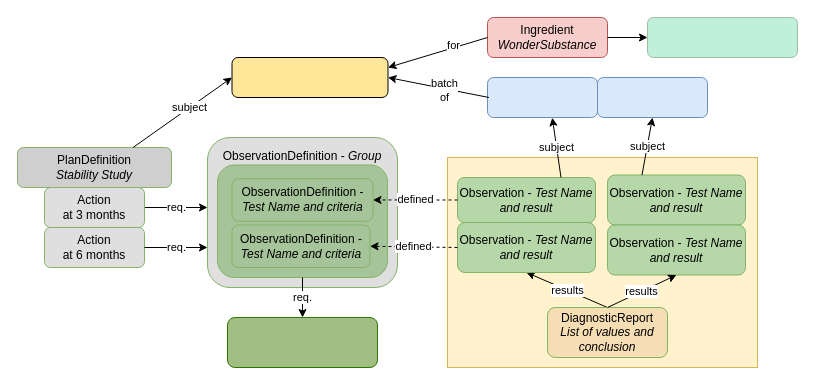
Image size: 815x385. Some labels were removed from this diagram. Each missing label, with the box of its shape:
ActivityDefinition: (206, 136, 398, 288)
Medication Batch 1: (486, 76, 598, 118)
Medication Batch 2: (596, 76, 708, 118)
MedicinalProductDefintion WonderDrug: (231, 56, 388, 98)
SpecimenDefinition - Storage conditions and duration: (226, 316, 378, 368)
SubstanceDefinition WonderSubstance: (646, 16, 798, 58)
